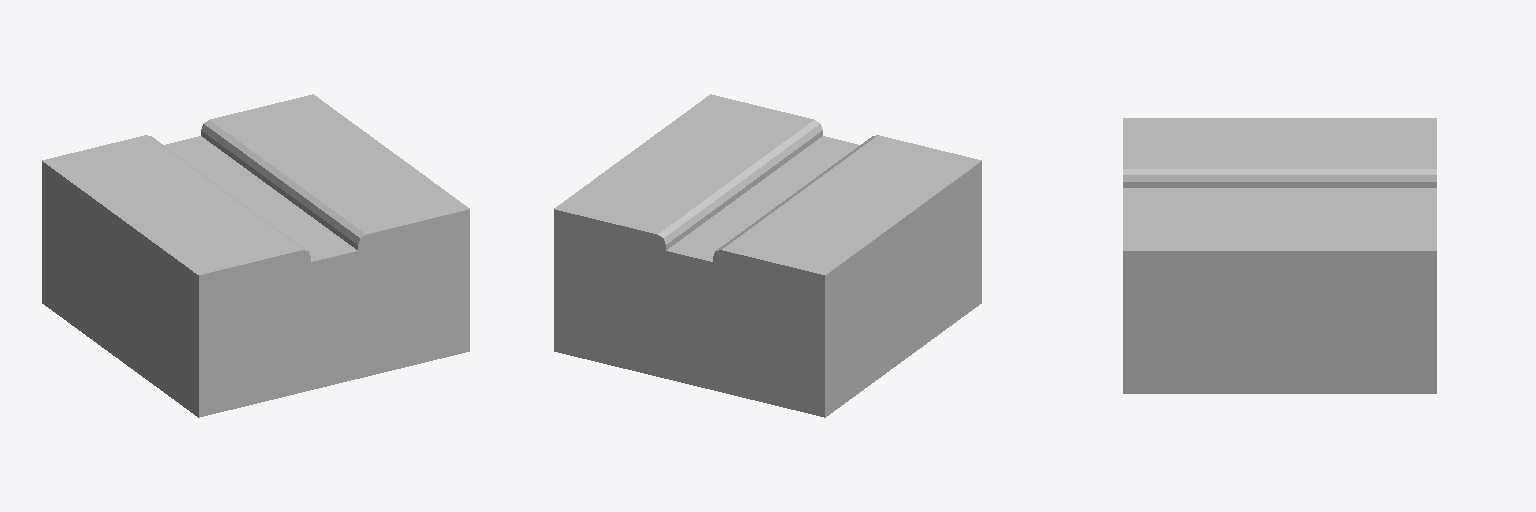
File: square_sand_roadB.obj
3 views of the same model, side by side, from view 1: azimuth 30°, elevation 25°; view 2: azimuth 150°, elevation 25°; view 3: azimuth 270°, elevation 25° (orthographic).
Visible parts, largest first — view 1: square_sand_roadB_Cube.383; view 2: square_sand_roadB_Cube.383; view 3: square_sand_roadB_Cube.383.
Boxes of the visible parts, <box> form: square_sand_roadB_Cube.383: <box>42,94,469,417</box>; square_sand_roadB_Cube.383: <box>554,94,981,417</box>; square_sand_roadB_Cube.383: <box>1123,118,1436,393</box>.
Bounding box in the file's own units: 2 × 1 × 2.